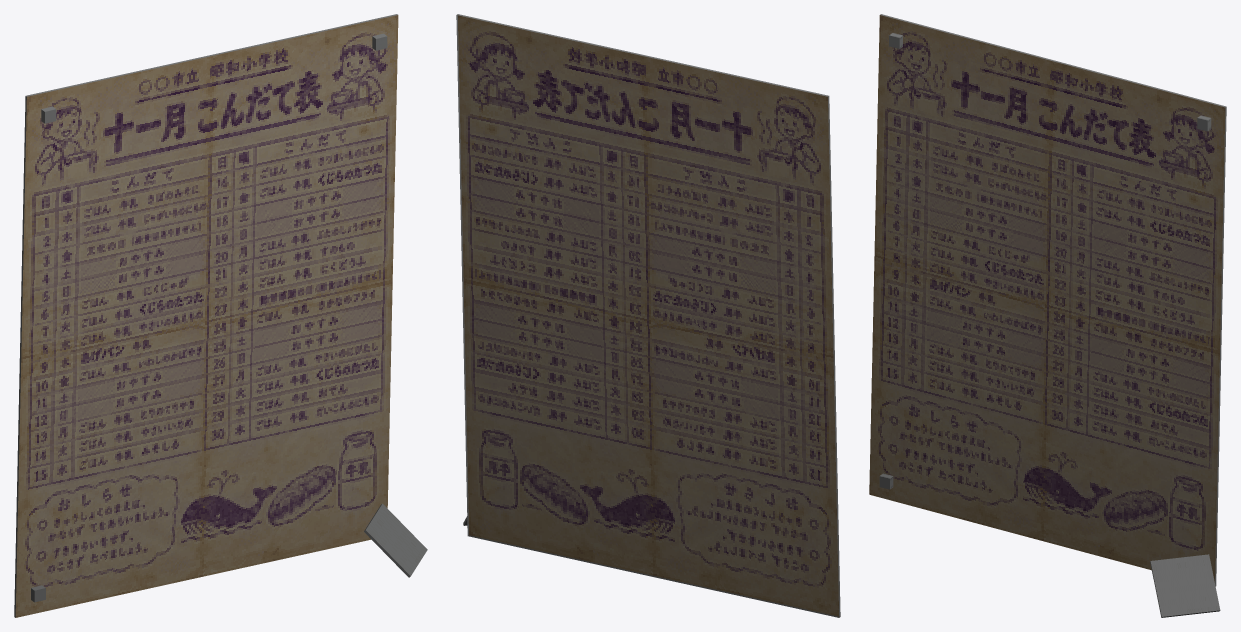
The model's file is prop_poster-kondate-4.glb.
The picture shows the model from 3 angles, left to right: view 1: azimuth 30°, elevation 25°; view 2: azimuth 150°, elevation 25°; view 3: azimuth 330°, elevation 25°; orthographic projection. The views are drawn at different scales.
Visible parts, largest first — view 1: prop_poster-kondate-4; view 2: prop_poster-kondate-4; view 3: prop_poster-kondate-4.
Part boxes in pixels (left/top/right/bottom): prop_poster-kondate-4: left=14, top=14, right=427, bottom=617; prop_poster-kondate-4: left=456, top=14, right=840, bottom=617; prop_poster-kondate-4: left=869, top=14, right=1226, bottom=617.
Size of the model in its own units: 0.4895 by 0.6346 by 0.0897.
Materials: 2 (2 with a texture image).
